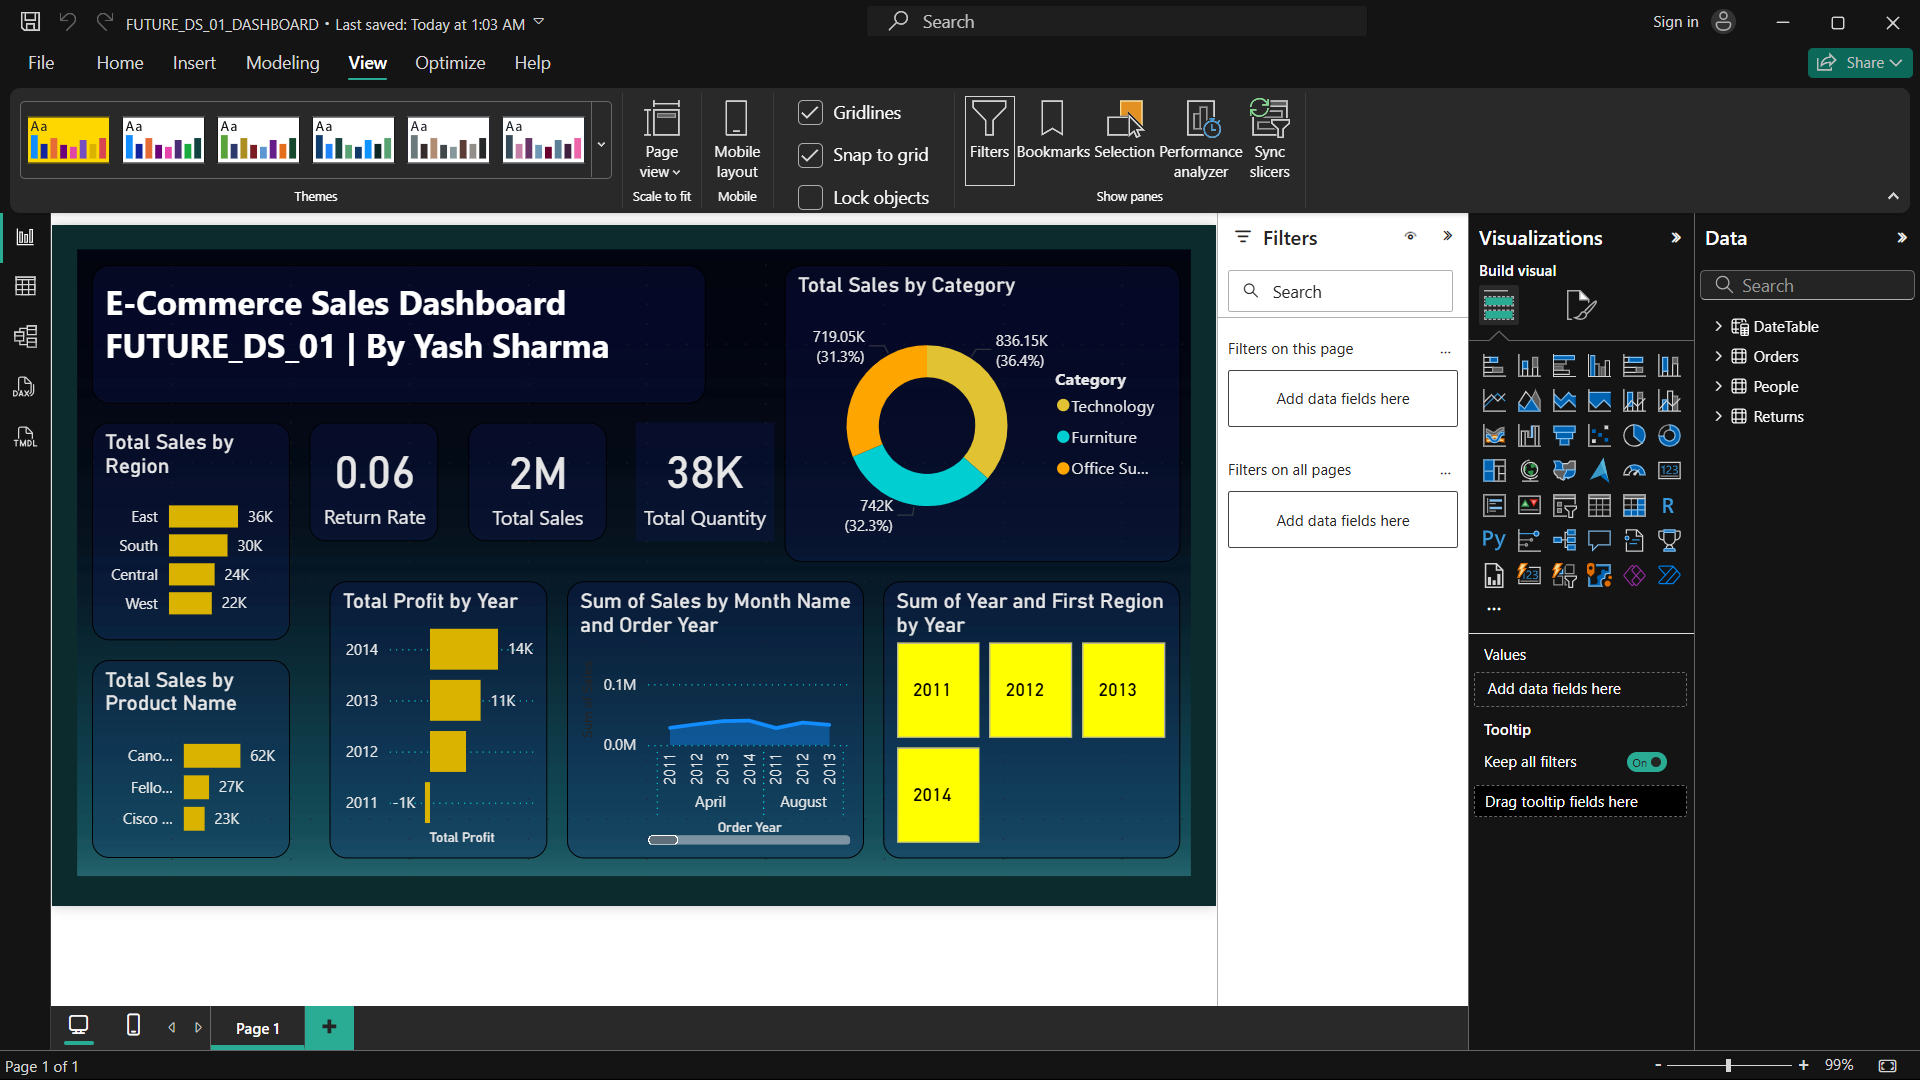

The dashboard page shown, as its layout file describes it:
{"tool":"powerbi","page":{"name":"Page 1","canvas":[940,550],"ordinal":0},"visuals":[{"type":"card","fields":{"Values":["DateTable.Total Sales"]},"box":[336,160,112,96],"z":0},{"type":"card","fields":{"Values":["DateTable.Return Rate"]},"box":[208,160,104,96],"z":1000},{"type":"card","fields":{"Values":["DateTable.Total Quantity"]},"box":[472,160,112,96],"z":2000},{"type":"clusteredBarChart","fields":{"Category":["Orders.Product Name"],"Y":["DateTable.Total Sales"]},"box":[32,352,160,160],"z":3000},{"type":"donutChart","fields":{"Category":["Orders.Category"],"Y":["DateTable.Total Sales"]},"box":[592,32,320,240],"z":5000},{"type":"advancedSlicerVisual","fields":{"Values":["DateTable.Year"]},"box":[672,288,240,224],"z":6000},{"type":"clusteredBarChart","fields":{"Category":["People.Region"],"Y":["DateTable.Total Sales"]},"box":[32,160,160,176],"z":7000},{"type":"clusteredBarChart","fields":{"Category":["Orders.Ship Date.Variation.Date Hierarchy.Year","Orders.Ship Date.Variation.Date Hierarchy.Quarter","Orders.Ship Date.Variation.Date Hierarchy.Month","Orders.Ship Date.Variation.Date Hierarchy.Day"],"Y":["DateTable.Total Profit"]},"box":[224,288,176,224],"z":8000},{"type":"stackedAreaChart","fields":{"Category":["DateTable.Month Name","Orders.Order Year"],"Y":["Sum(Orders.Sales)"]},"box":[416,288,240,224],"z":9000},{"type":"textbox","box":[32,32,496,112],"z":9001}]}

Visuals, with their boxes on the page's 940x550 design canvas (x1, y1, x2, y2). These are canvas units, not pixel positions in the 1920x1080 screenshot, which may show the page scaled, cropped or inside an application window:
card - DateTable.Total Sales: left=336, top=160, right=448, bottom=256
card - DateTable.Return Rate: left=208, top=160, right=312, bottom=256
card - DateTable.Total Quantity: left=472, top=160, right=584, bottom=256
clusteredBarChart - Orders.Product Name x DateTable.Total Sales: left=32, top=352, right=192, bottom=512
donutChart - Orders.Category x DateTable.Total Sales: left=592, top=32, right=912, bottom=272
advancedSlicerVisual - DateTable.Year: left=672, top=288, right=912, bottom=512
clusteredBarChart - People.Region x DateTable.Total Sales: left=32, top=160, right=192, bottom=336
clusteredBarChart - Orders.Ship Date.Variation.Date Hierarchy.Year x Orders.Ship Date.Variation.Date Hierarchy.Quarter: left=224, top=288, right=400, bottom=512
stackedAreaChart - DateTable.Month Name x Orders.Order Year: left=416, top=288, right=656, bottom=512
textbox: left=32, top=32, right=528, bottom=144
